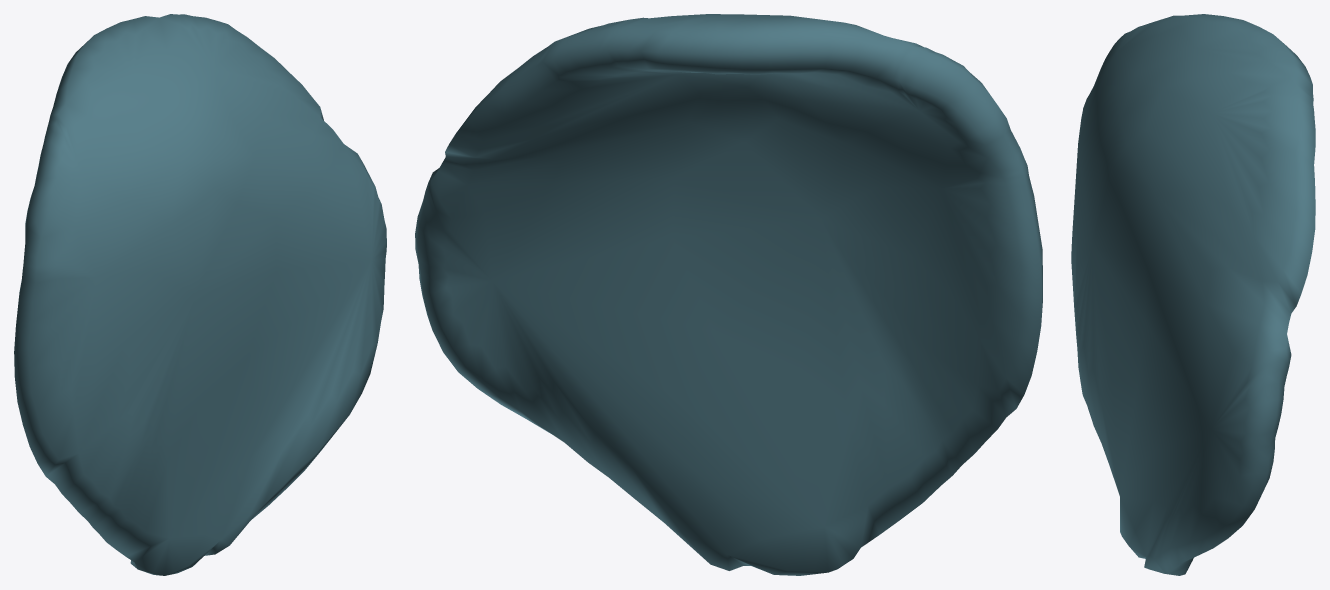
Rendered from Flexor_digiti_minimi_5th_proximal_phalanx_base_right.glb.
3 views of the same model, side by side, from view 1: azimuth 30°, elevation 25°; view 2: azimuth 150°, elevation 25°; view 3: azimuth 270°, elevation 25° (orthographic). The views are drawn at different scales.
Parts seen in each view (by area): view 1: Flexor_digiti_minimi_on_base_of_5th_proximal_phalanx.r_Gener; view 2: Flexor_digiti_minimi_on_base_of_5th_proximal_phalanx.r_Gener; view 3: Flexor_digiti_minimi_on_base_of_5th_proximal_phalanx.r_Gener.
Boxes of the visible parts, <box> form: Flexor_digiti_minimi_on_base_of_5th_proximal_phalanx.r_Gener: <box>14,14,386,575</box>; Flexor_digiti_minimi_on_base_of_5th_proximal_phalanx.r_Gener: <box>415,14,1042,575</box>; Flexor_digiti_minimi_on_base_of_5th_proximal_phalanx.r_Gener: <box>1071,14,1315,575</box>.
Bounding box in the file's own units: 0.00545 × 0.00583 × 0.00253.
